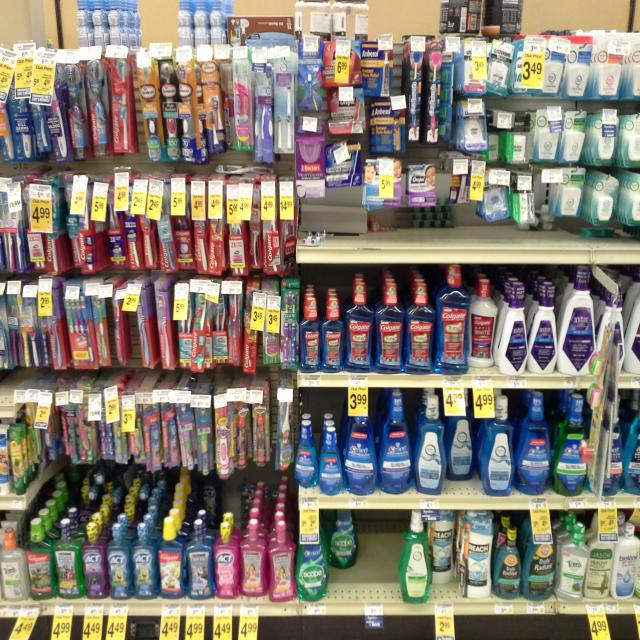void: (380, 154, 418, 268), (362, 514, 400, 620), (419, 148, 450, 262), (338, 192, 372, 263)
